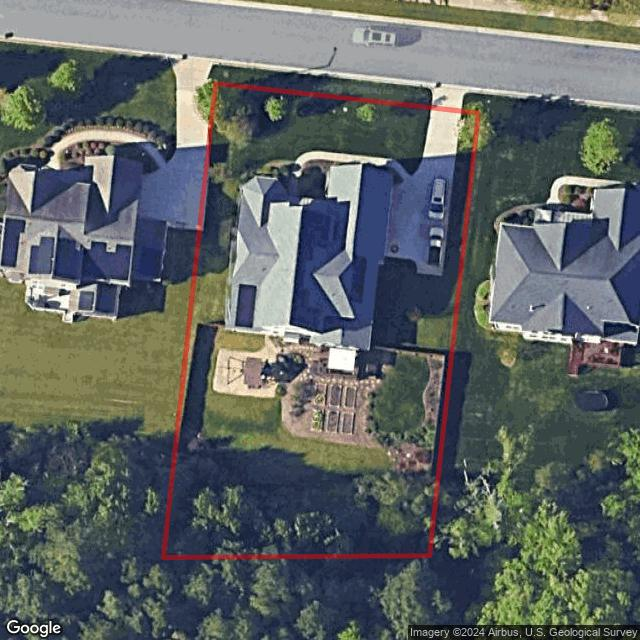Driveway: (385, 108, 461, 279)
Extra-Driveway: (430, 88, 467, 112)
Extra-Lawn: (215, 66, 432, 109), (461, 93, 481, 115)
House: (222, 164, 397, 353)
Lawn: (163, 83, 479, 558)
Other: (160, 335, 449, 561), (298, 159, 361, 199), (240, 159, 294, 189)
Sidewalk: (287, 151, 411, 198)
